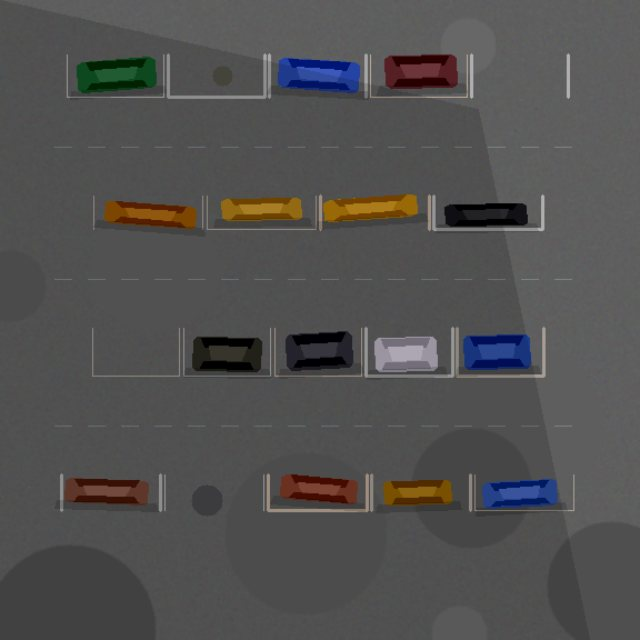space-empty: (92, 328, 179, 376), (471, 54, 568, 97), (168, 54, 264, 97), (164, 474, 263, 510)
space-occupied: (183, 328, 270, 376), (274, 328, 361, 376), (269, 54, 366, 97), (370, 54, 467, 97), (67, 54, 163, 97), (366, 328, 452, 376), (457, 328, 543, 376), (93, 196, 202, 229), (207, 196, 316, 229), (320, 196, 429, 229), (433, 196, 542, 229), (61, 474, 160, 510), (268, 474, 367, 510), (371, 474, 470, 510), (474, 474, 573, 510)
